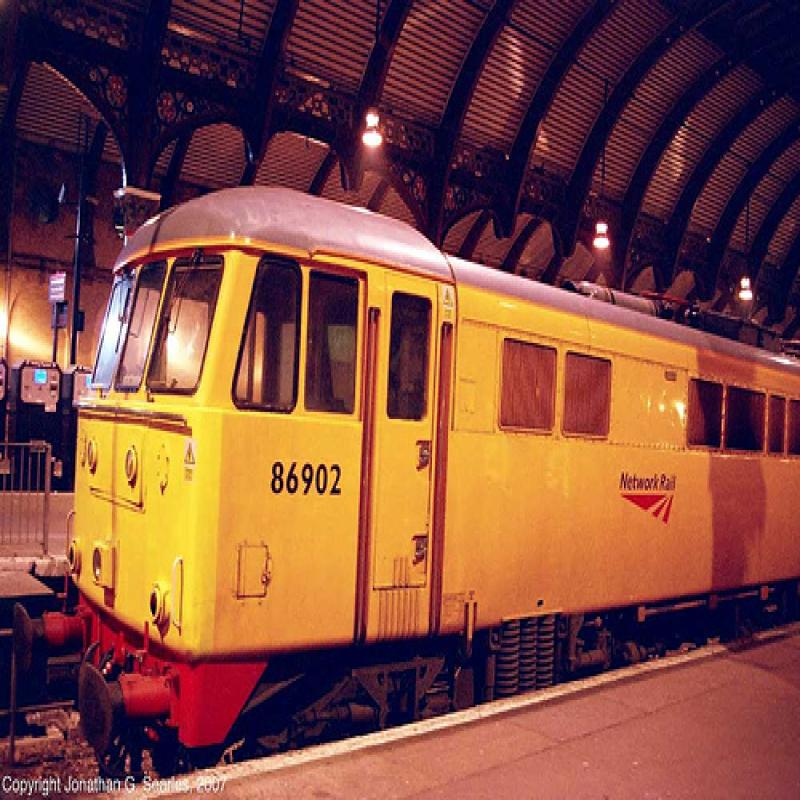train: (11, 187, 800, 763)
